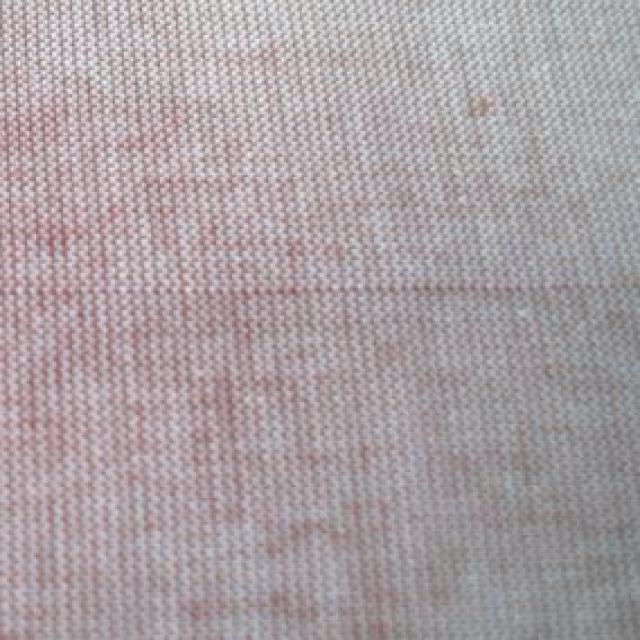stains: (5, 207, 640, 386)
